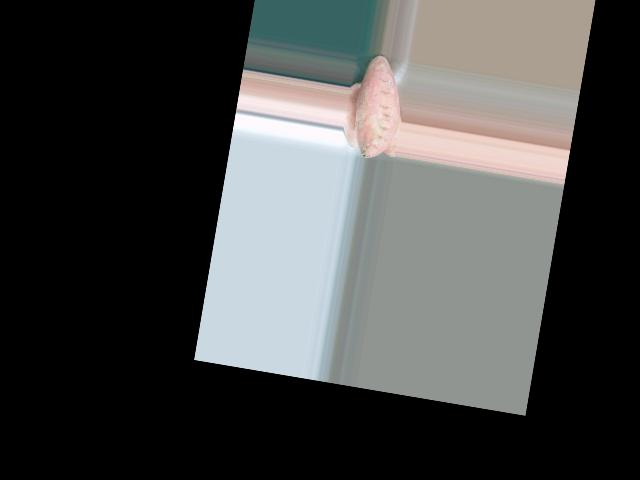sweet_potato: (352, 54, 405, 161)
